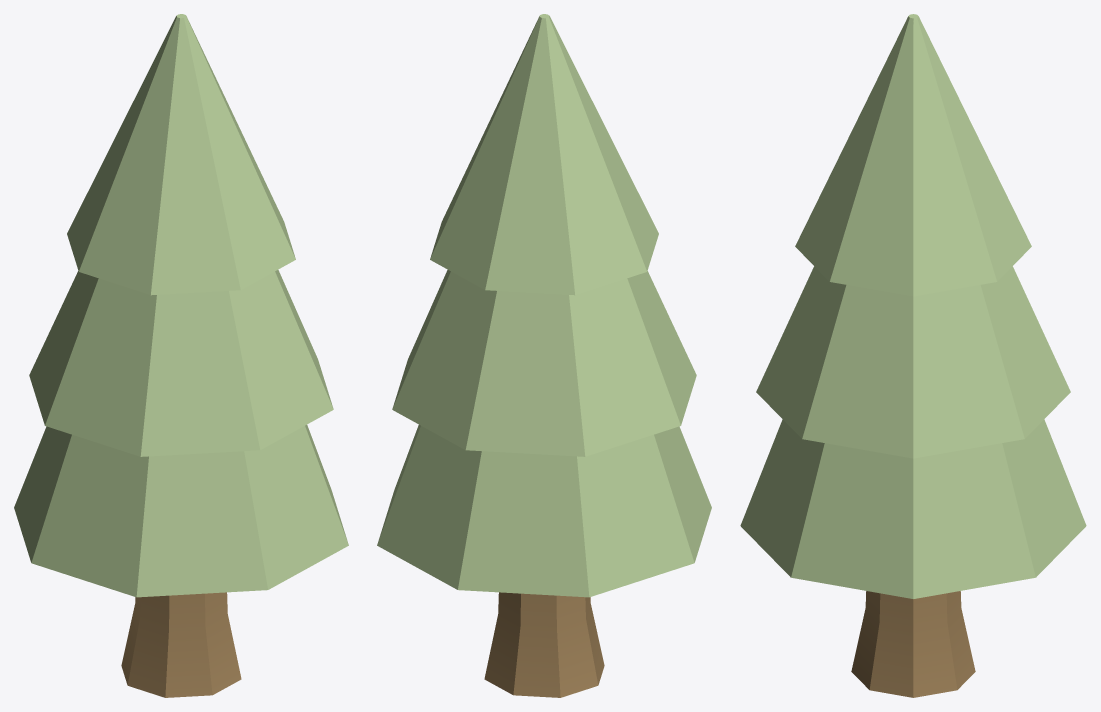
Rendered from Tree_Pine.fbx.
The picture shows the model from 3 angles, left to right: view 1: azimuth 30°, elevation 25°; view 2: azimuth 150°, elevation 25°; view 3: azimuth 270°, elevation 25°; orthographic projection.
Visible parts, largest first — view 1: Tree_Pine; view 2: Tree_Pine; view 3: Tree_Pine.
Part boxes in pixels (x1,y1,x2,y2): Tree_Pine: (14,14,348,697); Tree_Pine: (377,14,711,697); Tree_Pine: (740,14,1086,697).
Bounding box in the file's own units: 8.64 × 18.06 × 8.64.
